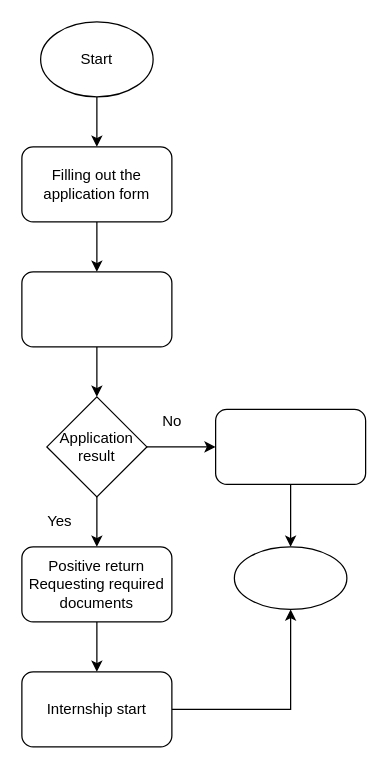
The diagram is 388 pixels wide and 769 high, and some of its shapes have lost their labels. Here are the shapes that lost their labels. From the top down, the centre of each, then its label:
At point (96, 309): "Evaluation".
At point (290, 446): "Negative return".
At point (290, 577): "End".
